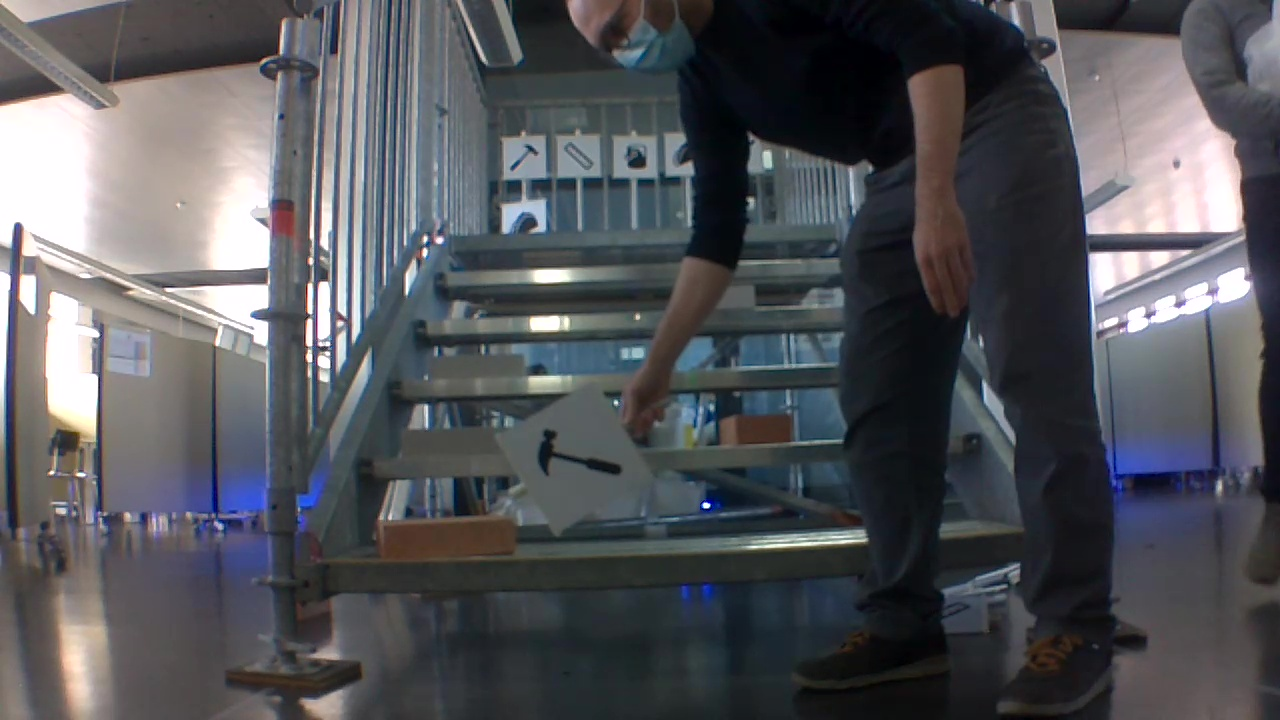brick: (377, 515, 514, 557), (400, 425, 499, 456), (429, 355, 524, 380), (721, 416, 793, 444)
bucket: (619, 139, 651, 171)
hammer: (530, 423, 631, 490), (502, 141, 541, 171)
ruler: (562, 138, 594, 174)
taco: (507, 209, 538, 233)
